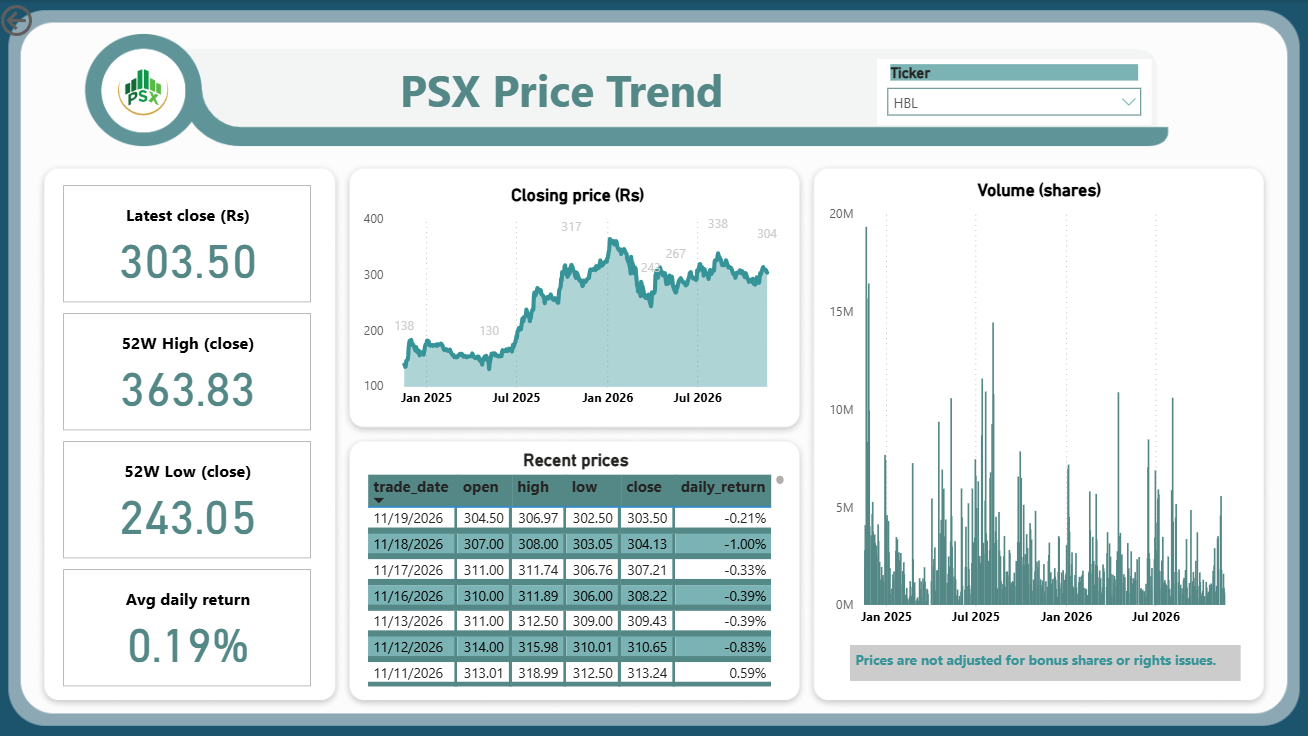

The dashboard page shown, as its layout file describes it:
{"tool":"powerbi","page":{"name":"PSX Price Trend","canvas":[1280,720],"ordinal":2},"visuals":[{"type":"image","box":[7.8,26.3,1196.4,128.4],"z":0},{"type":"lineChart","title":"Closing price (Rs)","fields":{"Category":["fact_equities.trade_date"],"Y":["Avg(fact_equities.close)"]},"box":[352.1,179.9,427,225.7],"z":1000},{"type":"cardVisual","title":"Trailing 12m gross yield","fields":{"Data":["fact_equities.Latest Close"]},"box":[60.3,175.1,251.9,124.5],"z":2000},{"type":"cardVisual","fields":{"Data":["fact_equities.52W High (close)"]},"box":[60.3,299.6,251.9,124.5],"z":3000},{"type":"cardVisual","fields":{"Data":["fact_equities.52W Low (close)"]},"box":[60.3,424.1,251.9,124.5],"z":4000},{"type":"cardVisual","fields":{"Data":["fact_equities.Avg Daily Return"]},"box":[60.3,548.6,251.9,124.5],"z":5000},{"type":"actionButton","box":[0,0,100,40],"z":7000},{"type":"image","box":[108,58.4,72,63.2],"z":9000},{"type":"slicer","fields":{"Values":["dim_asset.ticker"]},"box":[856.9,57.4,267.5,64.2],"z":10000},{"type":"textbox","box":[243.2,53.5,613.7,68.1],"z":11000},{"type":"clusteredColumnChart","title":"Volume (shares)","fields":{"Category":["fact_equities.trade_date"],"Y":["Sum(fact_equities.volume)"]},"box":[804.4,175.1,420.2,443.5],"z":11001},{"type":"tableEx","title":"Recent prices","fields":{"Values":["fact_equities.trade_date","fact_equities.open","fact_equities.high","fact_equities.low","fact_equities.close","fact_equities.daily_return"]},"box":[356,437.7,416.3,235.4],"z":11002},{"type":"textbox","box":[830.6,627.4,380.3,35],"z":11003}]}

Visuals, with their boxes in screenshot pixels (x1, y1, x2, y2), scaled from the page's 1280x720 canvas onto the 1308x736 screenshot:
image: 8, 27, 1231, 158
"Closing price (Rs)" lineChart: 360, 184, 796, 415
"Trailing 12m gross yield" cardVisual: 62, 179, 319, 306
cardVisual - fact_equities.52W High (close): 62, 306, 319, 434
cardVisual - fact_equities.52W Low (close): 62, 434, 319, 561
cardVisual - fact_equities.Avg Daily Return: 62, 561, 319, 688
actionButton: 0, 0, 102, 41
image: 110, 60, 184, 124
slicer - dim_asset.ticker: 876, 59, 1149, 124
textbox: 249, 55, 876, 124
"Volume (shares)" clusteredColumnChart: 822, 179, 1251, 632
"Recent prices" tableEx: 364, 447, 789, 688
textbox: 849, 641, 1237, 677
